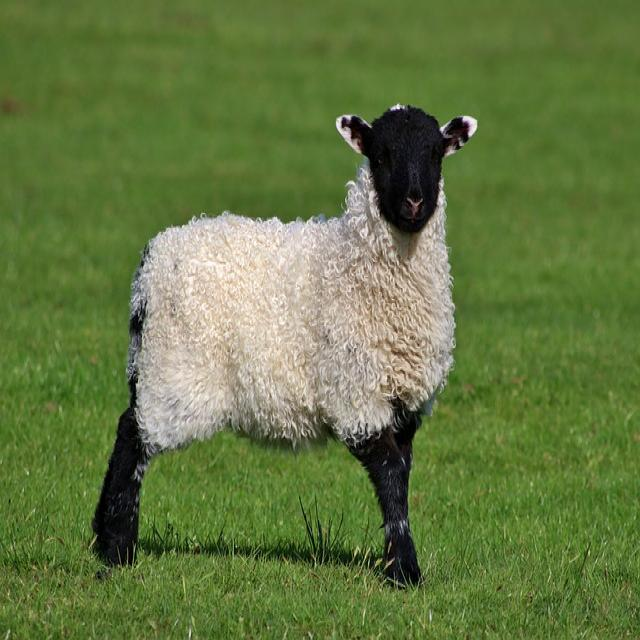goat: (91, 104, 478, 590)
